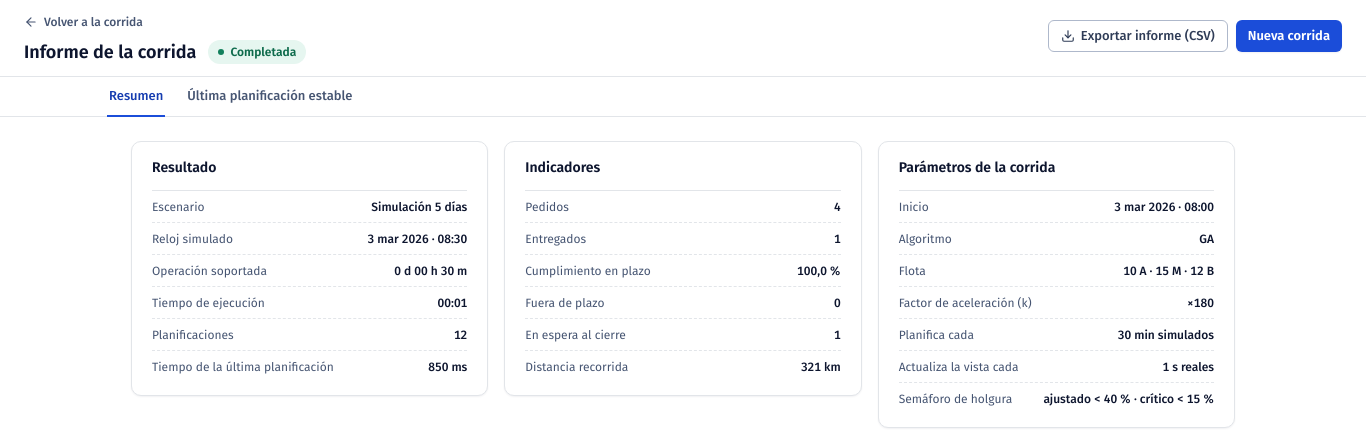
Test case: Rúbrica 91.EvaSw · reporte de la última planificación estable › sin ninguna planificación todavía, explica cuándo habrá una en vez de mostrar un error
The width and height of the screenshot is (1366, 446).
Click the tab "Última planificación estable" at (270, 97), box [185,77,354,117]
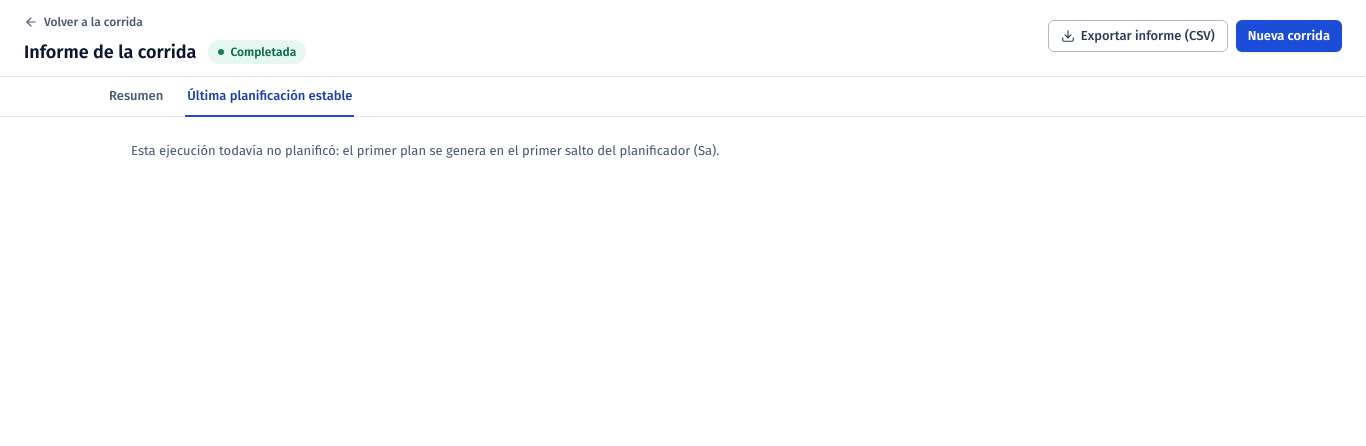
Check: the text "todavía no planificó" is shown, box [131,143,719,158]
